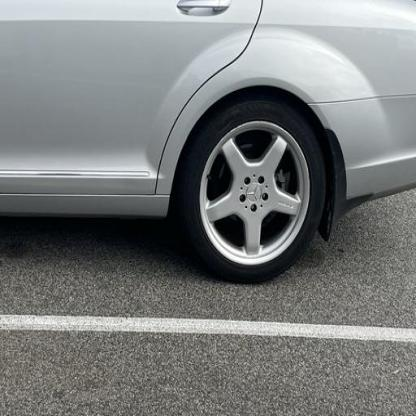Tire: (178, 100, 327, 285)
